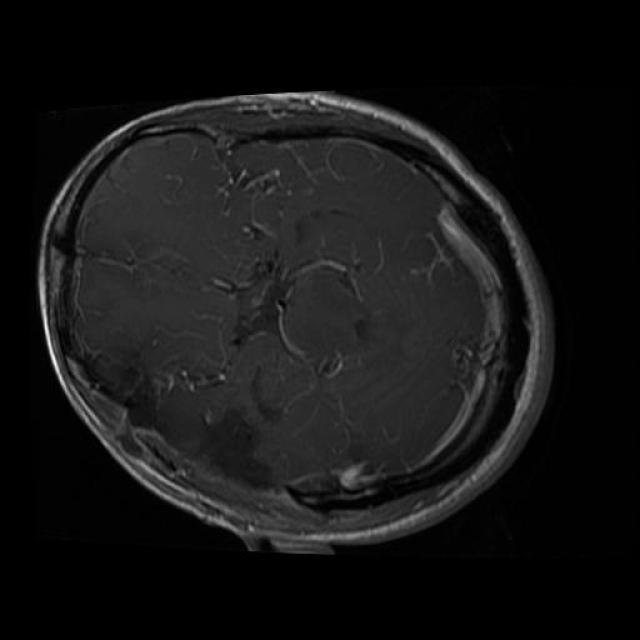Glioma: (181, 410, 275, 488), (126, 369, 173, 438)
